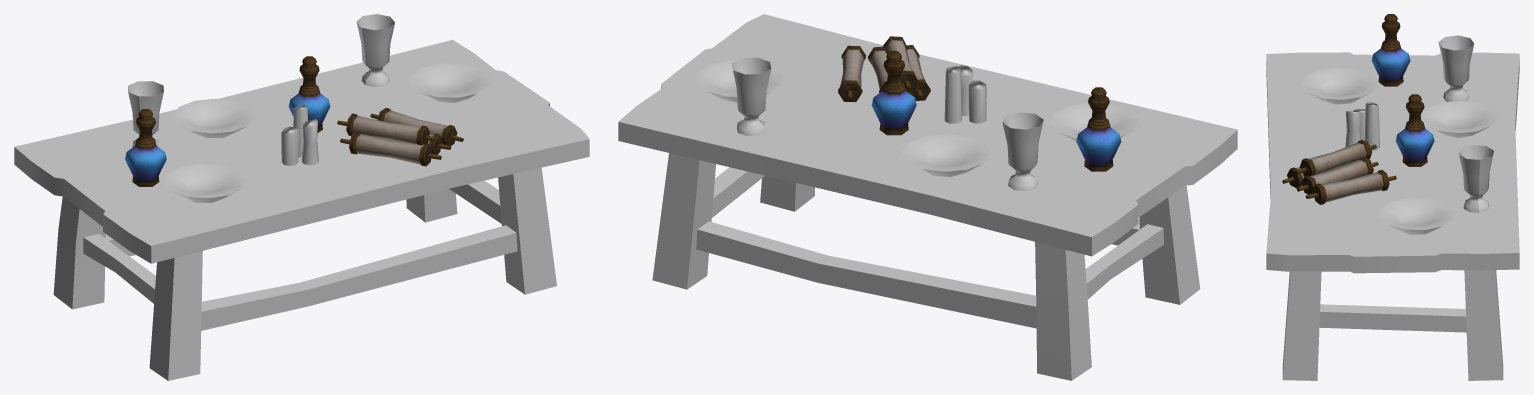
File: Table_03.fbx
3 views of the same model, side by side, from view 1: azimuth 30°, elevation 25°; view 2: azimuth 150°, elevation 25°; view 3: azimuth 270°, elevation 25° (orthographic). The views are drawn at different scales.
Visible parts, largest first — view 1: Table_03; view 2: Table_03; view 3: Table_03.
Part boxes in pixels (box(x1,y1,x2,y2)): Table_03: box(14, 14, 589, 380); Table_03: box(618, 14, 1237, 380); Table_03: box(1266, 14, 1519, 380).
Size of the model in its own units: 2.49 by 1.18 by 1.31.
